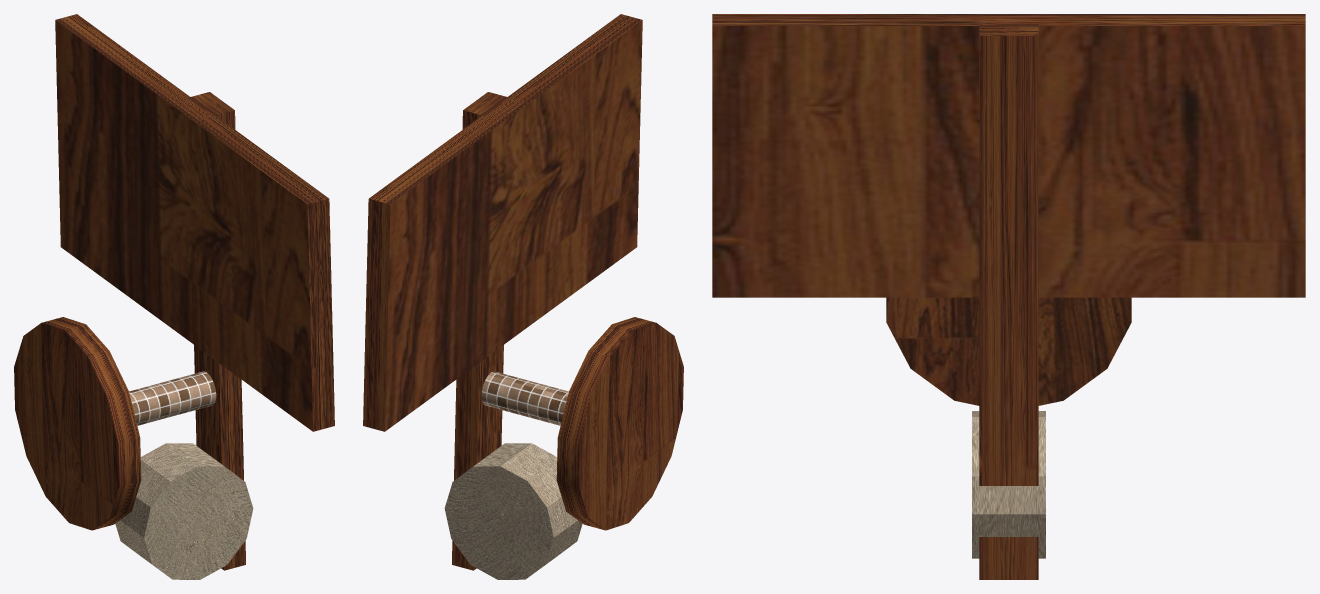
File: Pusher_Plank.fbx
The picture shows the model from 3 angles, left to right: view 1: azimuth 30°, elevation 25°; view 2: azimuth 150°, elevation 25°; view 3: azimuth 270°, elevation 25°; orthographic projection. The views are drawn at different scales.
Parts seen in each view (by area): view 1: Pusher_Body; view 2: Pusher_Body; view 3: Pusher_Body.
Part boxes in pixels (bbox=[...]): Pusher_Body: bbox=[14, 14, 334, 579]; Pusher_Body: bbox=[363, 14, 683, 579]; Pusher_Body: bbox=[712, 14, 1305, 579].
Bounding box in the file's own units: 79.28 × 200 × 200.
